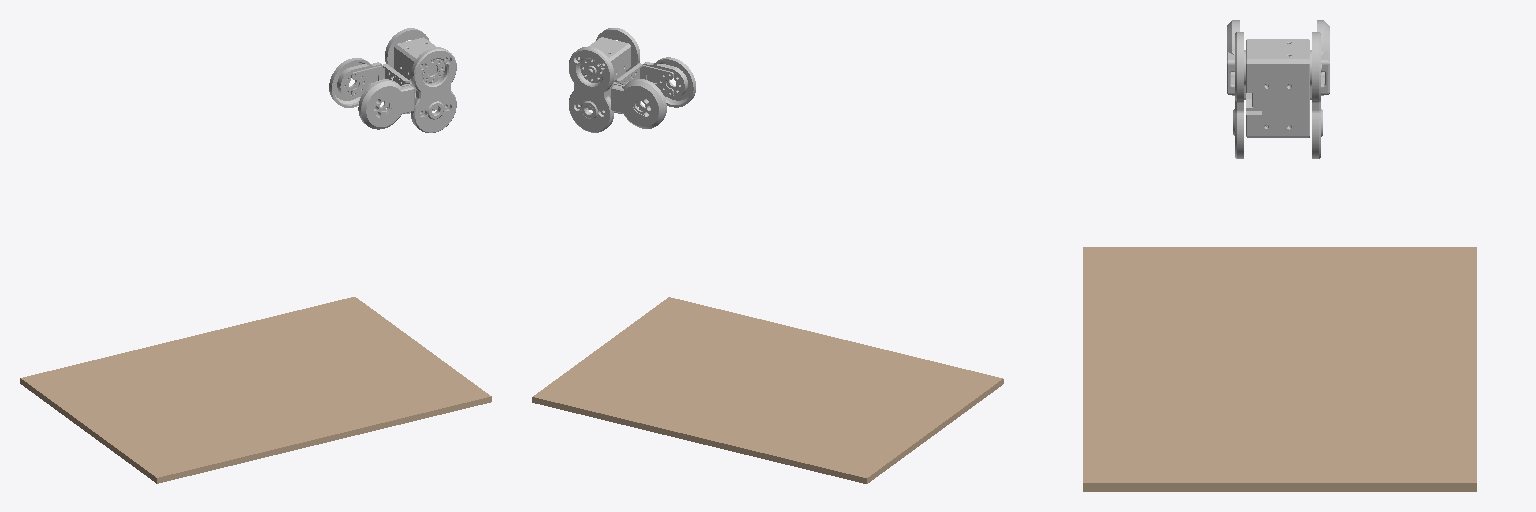
URDF robot description (mikata_arm_4):
<?xml version="1.0"?>
<robot name="mikata_arm_4">
<!-- NOTE Added "rpy="0 0 0"" to <origin> elements of all <joint> since
    KDL uses those information. -->

  <link name="base_link">
    <visual>
      <geometry>
        <mesh filename="package://mikata_arm_description/description/meshes/mikata_arm_4_joint1.dae"/>
      </geometry>
      <origin rpy="0 0 -1.57075" xyz="0 0 0.017"/>
    </visual>
    <collision>
      <origin rpy="0 0 -1.57075" xyz="0 0 0.017"/>
      <geometry>
        <mesh filename="package://mikata_arm_description/description/meshes/mikata_arm_4_joint1.stl"/>
      </geometry>
    </collision>
  </link>

  <link name="plate_link">
    <visual>
      <geometry>
        <box size="0.297 0.210 0.005"/>
      </geometry>
      <material name="gray">
        <color rgba="0.8 0.7 0.6 0.5"/>
      </material>
    </visual>
  </link>
  <joint name="plate_joint" type="fixed">
    <parent link="base_link"/>
    <child link="plate_link"/>
    <origin rpy="0 0 0" xyz="0.0755 0 -0.005"/>
  </joint>
  
  <link name="link_2">
    <visual>
      <geometry>
        <mesh filename="package://mikata_arm_description/description/meshes/mikata_arm_4_joint2.dae"/>
      </geometry>
      <origin rpy="1.57075 0 1.57075" xyz="0 0 .0405"/>
    </visual>
    <collision>
      <origin rpy="1.57075 0 1.57075" xyz="0 0 .0405"/>
      <geometry>
        <mesh filename="package://mikata_arm_description/description/meshes/mikata_arm_4_joint2.stl"/>
      </geometry>
    </collision>
  </link>
  <joint name="joint_1" type="revolute">
    <parent link="base_link"/>
    <child link="link_2"/>
    <axis xyz="0 0 1"/>
    <limit lower="-3.141592653589793" upper="3.1400586728019073" effort="1000" velocity="0.7"/>
    <origin rpy="0 0 0" xyz="0 0 .0355"/>
  </joint>

  <link name="link_3">
    <visual>
      <geometry>
        <mesh filename="package://mikata_arm_description/description/meshes/mikata_arm_4_joint3.dae"/>
      </geometry>
      <origin rpy="0 0 -1.57075" xyz=".024 0 .148"/>
    </visual>
    <collision>
      <origin rpy="0 0 -1.57075" xyz=".024 0 .148"/>
      <geometry>
        <mesh filename="package://mikata_arm_description/description/meshes/mikata_arm_4_joint3.stl"/>
      </geometry>
    </collision>    
  </link>
  <joint name="joint_2" type="revolute">
    <parent link="link_2"/>
    <child link="link_3"/>
    <axis xyz="0 1 0"/>
    <limit lower="-1.8070293681292853" upper="2.073942025221387" effort="1000" velocity="0.7"/>
    <origin rpy="0 0 0" xyz="0 0 .0405"/>
  </joint>
  
  <link name="link_4">
    <visual>
      <geometry>
        <mesh filename="package://mikata_arm_description/description/meshes/mikata_arm_4_joint4.dae"/>
      </geometry>
      <origin rpy="0 3.14159 -1.57075" xyz=".150 0 0"/>
    </visual>
    <collision>
      <origin rpy="0 3.14159 -1.57075" xyz=".150 0 0"/>
      <geometry>
        <mesh filename="package://mikata_arm_description/description/meshes/mikata_arm_4_joint4.stl"/>
      </geometry>
    </collision>
  </link>
  <joint name="joint_3" type="revolute">
    <parent link="link_3"/>
    <child link="link_4"/>
    <axis xyz="0 1 0"/>
    <limit lower="-1.7456701366138596" upper="1.4143302864305611" effort="1000" velocity="0.7"/>
    <origin rpy="0 0 0" xyz=".024 0 .148"/>
  </joint>

  <link name="link_5">
    <visual>
      <geometry>
        <mesh filename="package://mikata_arm_description/description/meshes/mikata_arm_4_joint5_rot.dae"/>
      </geometry>
      <origin rpy="0 1.57075 0" xyz=".04225 .015 0"/>
    </visual>
    <collision>
      <origin rpy="0 1.57075 0" xyz=".04225 .015 0"/>
      <geometry>
        <mesh filename="package://mikata_arm_description/description/meshes/mikata_arm_4_joint5_rot.stl"/>
      </geometry>
    </collision>    
  </link>
  <joint name="joint_4" type="revolute">
    <parent link="link_4"/>
    <child link="link_5"/>
    <axis xyz="0 1 0"/>
    <limit lower="-1.7303303287350031" upper="1.88986433067511" effort="1000" velocity="0.7"/>
    <origin rpy="0 0 0" xyz="0.150 0 0"/>
  </joint>

  <link name="left_gripper">
    <visual>
      <geometry>
        <mesh filename="package://mikata_arm_description/description/meshes/mikata_arm_4_gripper.dae"/>
      </geometry>
      <origin rpy="1.57075 -.9773835 0.0"/>
    </visual>
    <collision>
      <origin rpy="1.57075 -.9773835 0.0"/>
      <geometry>
        <mesh filename="package://mikata_arm_description/description/meshes/mikata_arm_4_gripper.stl"/>
      </geometry>
    </collision>    
  </link>
  <joint name="gripper_joint_5" type="revolute">
    <parent link="link_5"/>
    <child link="left_gripper"/>
    <axis xyz="0 -1 0"/>
    <limit lower="0" upper="1.452906" effort="1000" velocity="0.7"/>
    <origin rpy="0 0.2331650816 0" xyz=".04725 0 -.015"/>
  </joint>

  <link name="right_gripper">
    <visual>
      <geometry>
        <mesh filename="package://mikata_arm_description/description/meshes/mikata_arm_4_gripper.dae"/>
      </geometry>
      <origin rpy="-1.57075 .9773835 0"/>
    </visual>
    <collision>
      <origin rpy="-1.57075 .9773835 0"/>
      <geometry>
        <mesh filename="package://mikata_arm_description/description/meshes/mikata_arm_4_gripper.stl"/>
      </geometry>
    </collision>    
  </link>
  <joint name="right_gripper_joint" type="revolute">
    <parent link="link_5"/>
    <child link="right_gripper"/>
    <axis xyz="0 -1 0"/>
    <limit lower="0" upper="1.452906" effort="1000" velocity="0.7"/>
    <origin rpy="0 -0.2331650816 0" xyz=".04725 0 .015"/>
    <mimic joint="gripper_joint_5" multiplier="-1"/>
  </joint>

</robot>

--- Render facts (derived) ---
Views: 3 orthographic renders of the robot side by side, from view 1: azimuth 30°, elevation 25°; view 2: azimuth 150°, elevation 25°; view 3: azimuth 270°, elevation 25°.
Model mikata_arm_4 with 8 links and 7 joints (6 revolute, 1 fixed), rooted at base_link, posed all joints at 0.
Links seen in each view (by area): view 1: plate_link, link_5; view 2: plate_link, link_5; view 3: plate_link, link_5.
Boxes of the visible links, <box> form: plate_link: <box>20,297,491,483</box>; link_5: <box>329,28,456,132</box>; plate_link: <box>532,297,1003,483</box>; link_5: <box>569,28,695,132</box>; plate_link: <box>1083,247,1476,491</box>; link_5: <box>1227,20,1329,158</box>.
Bounding box of the posed robot: 0.3135 × 0.21 × 0.2668 m (x, y, z).
1 mesh visuals loaded from 6 distinct referenced files (1 Collada DAE); not drawn: 6 (reference not matched to a file when rendering).